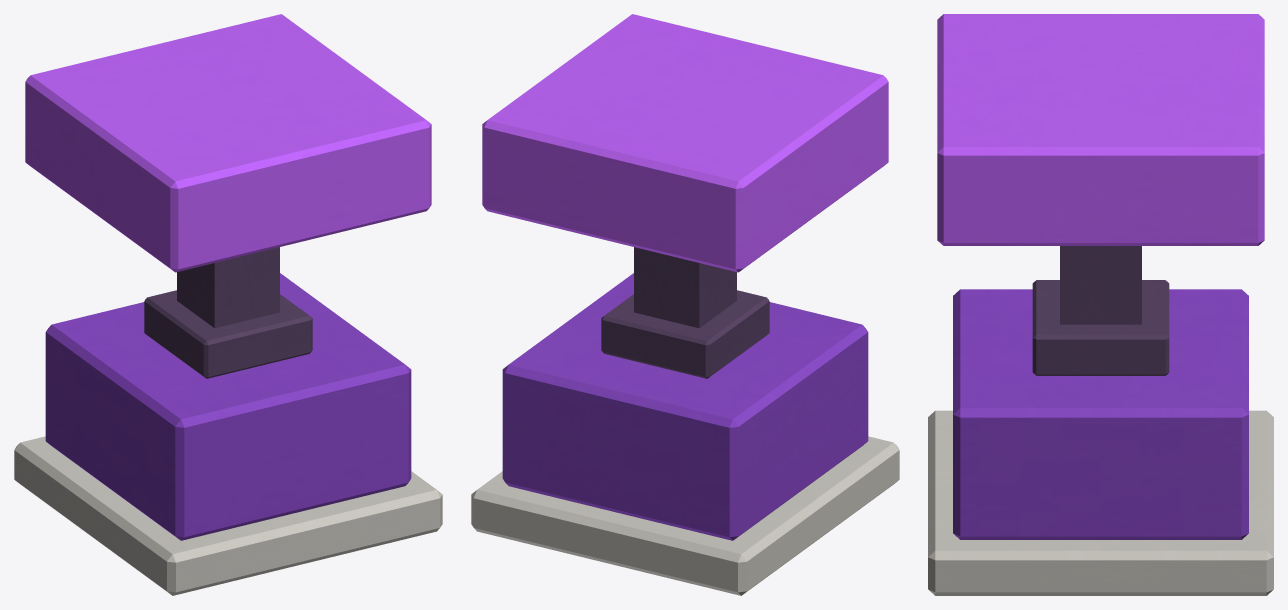
Rendered from quake.glb.
3 views of the same model, side by side, from view 1: azimuth 30°, elevation 25°; view 2: azimuth 150°, elevation 25°; view 3: azimuth 270°, elevation 25° (orthographic). The views are drawn at different scales.
Visible parts, largest first — view 1: fixed-geometry, hammer-geometry, stem-geometry; view 2: fixed-geometry, hammer-geometry, stem-geometry; view 3: fixed-geometry, hammer-geometry, stem-geometry.
Part boxes in pixels (x1=…): fixed-geometry: x1=14, y1=273, x2=442, y2=595; hammer-geometry: x1=25, y1=14, x2=431, y2=272; stem-geometry: x1=177, y1=247, x2=279, y2=328; fixed-geometry: x1=471, y1=273, x2=899, y2=595; hammer-geometry: x1=482, y1=14, x2=888, y2=272; stem-geometry: x1=634, y1=247, x2=736, y2=328; fixed-geometry: x1=928, y1=280, x2=1273, y2=595; hammer-geometry: x1=937, y1=14, x2=1264, y2=245; stem-geometry: x1=1060, y1=246, x2=1141, y2=324.
Size of the model in its own units: 0.76 by 1.08 by 0.76.
1 material, 1 textured.
